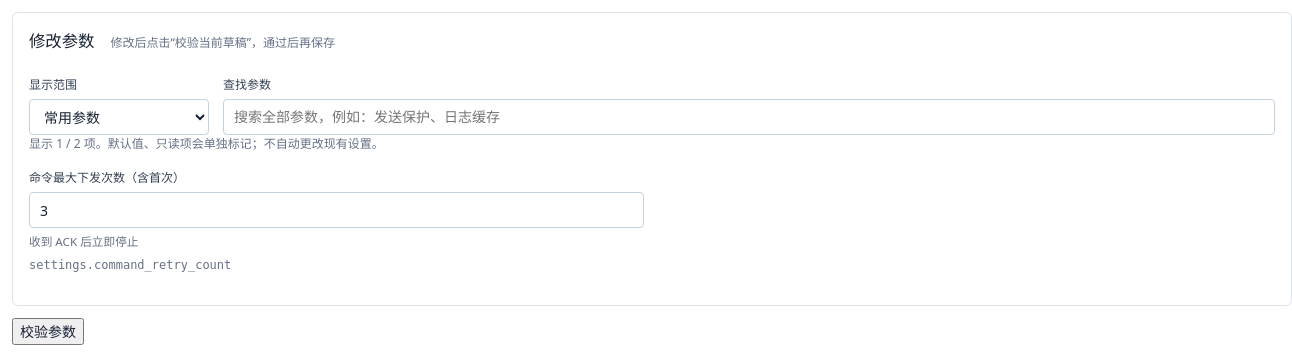
Scenario: configuration parameters › defaults to common parameters but searches and selects advanced logging settings
Expected: the number field labelled "命令最大下发次数（含首次）" is shown, [29,192,644,228]
Expected: the field labelled "日志内存队列容量（条）" is not shown
Select "日志" in the dropdown named "参数显示范围": (119, 117) [29,99,209,135]
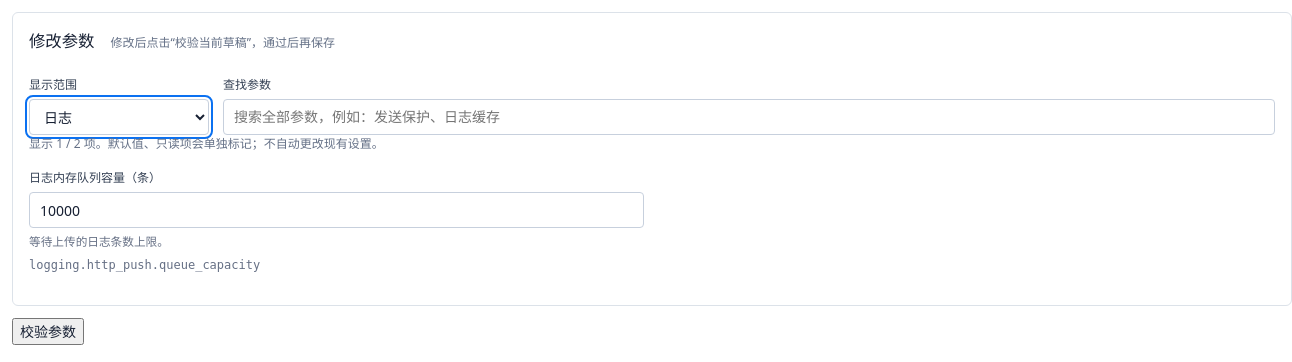
Expected: the number field labelled "日志内存队列容量（条）" holds "10000", [29,192,644,228]
Expected: the text labelled "命令最大下发次数（含首次）" is gone
In the search field: (749, 117) [223,99,1275,135], type "下发"
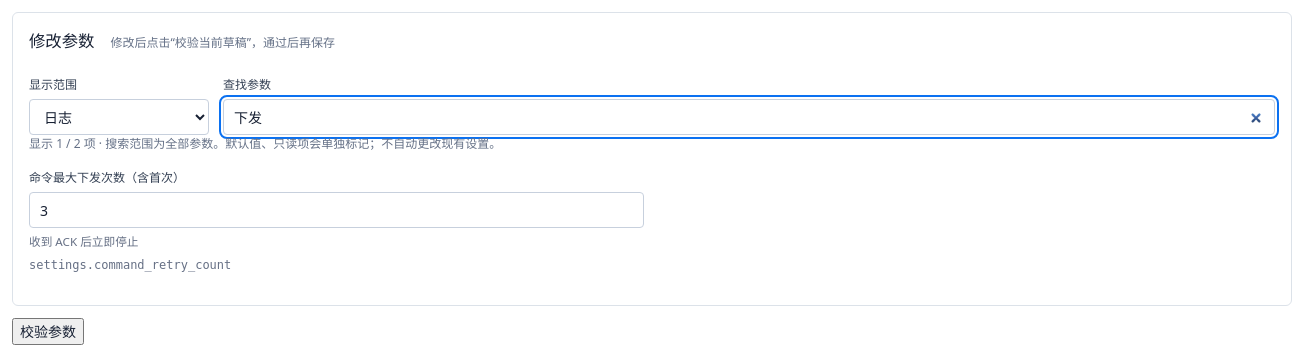
Expected: the number field labelled "命令最大下发次数（含首次）" is shown, [29,192,644,228]
Expected: the text "显示 1 / 2 项 · 搜索范围为全部参数。默认值、只读项会单独标记；不自动更改现有设置。" is shown, [29,135,501,152]
